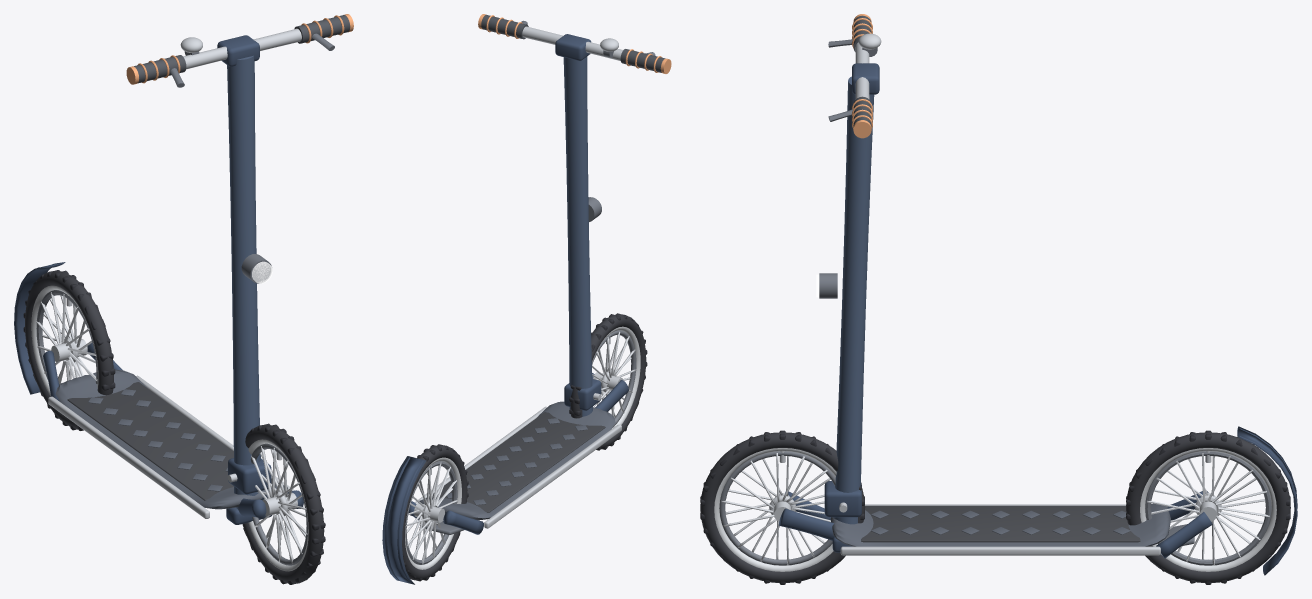
Rendered from scooter.glb.
The picture shows the model from 3 angles, left to right: view 1: azimuth 30°, elevation 25°; view 2: azimuth 150°, elevation 25°; view 3: azimuth 270°, elevation 25°; orthographic projection. The views are drawn at different scales.
Visible parts, largest first — view 1: stem, deck, wheelFront, wheelRear, fork; view 2: stem, deck, wheelRear, wheelFront, fork; view 3: deck, stem, wheelRear, wheelFront, fork.
Boxes of the visible parts, x1,y1,x2,y2 form: stem: (126, 14, 353, 495); deck: (48, 369, 294, 518); wheelFront: (242, 423, 325, 584); wheelRear: (23, 270, 115, 430); fork: (14, 262, 303, 524); stem: (478, 14, 671, 416); deck: (415, 401, 621, 534); wheelRear: (402, 444, 468, 581); wheelFront: (569, 313, 647, 450); fork: (382, 373, 628, 584); deck: (830, 503, 1194, 555); stem: (816, 14, 881, 524); wheelRear: (1126, 430, 1290, 584); wheelFront: (700, 430, 865, 584); fork: (779, 426, 1297, 575).
Bounding box in the file's own units: 0.48 × 1.09 × 1.12.
